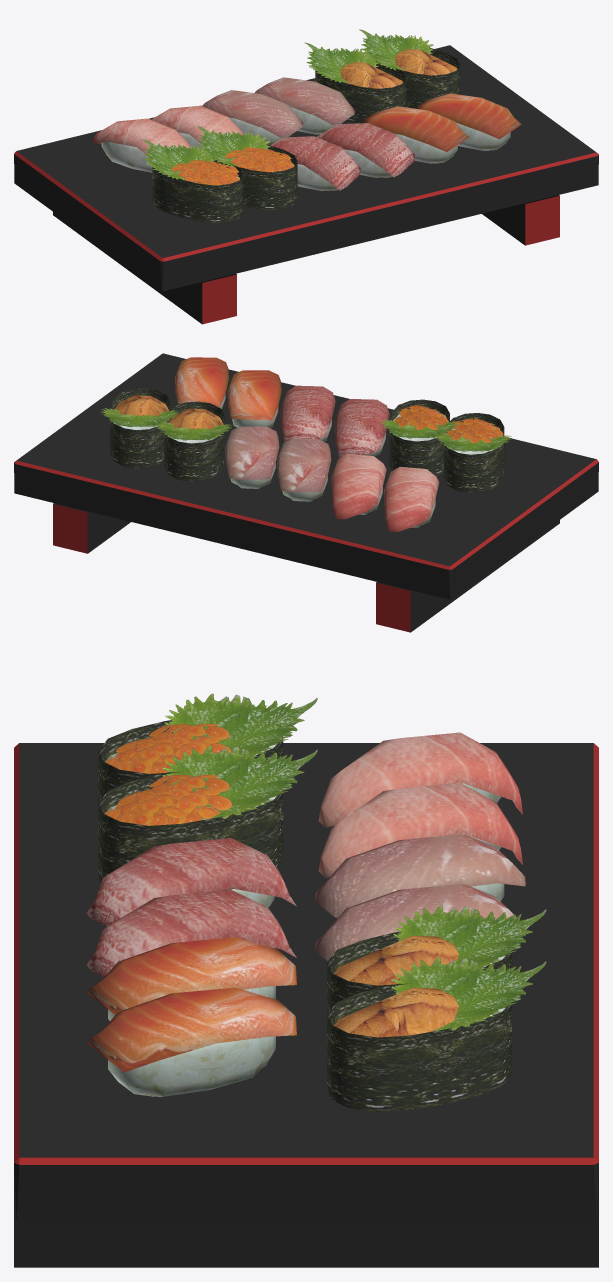
Rendered from FoodSushi01.fbx.
3 views of the same model, one above another, from view 1: azimuth 30°, elevation 25°; view 2: azimuth 150°, elevation 25°; view 3: azimuth 270°, elevation 25° (orthographic). The views are drawn at different scales.
Parts seen in each view (by area): view 1: FoodSushi01; view 2: FoodSushi01; view 3: FoodSushi01.
Part boxes in pixels (box(x1,y1,x2,y2)): FoodSushi01: box(14, 29, 598, 324); FoodSushi01: box(14, 353, 598, 632); FoodSushi01: box(14, 693, 598, 1267).
Size of the model in its own units: 26.08 by 7.13 by 15.37.
